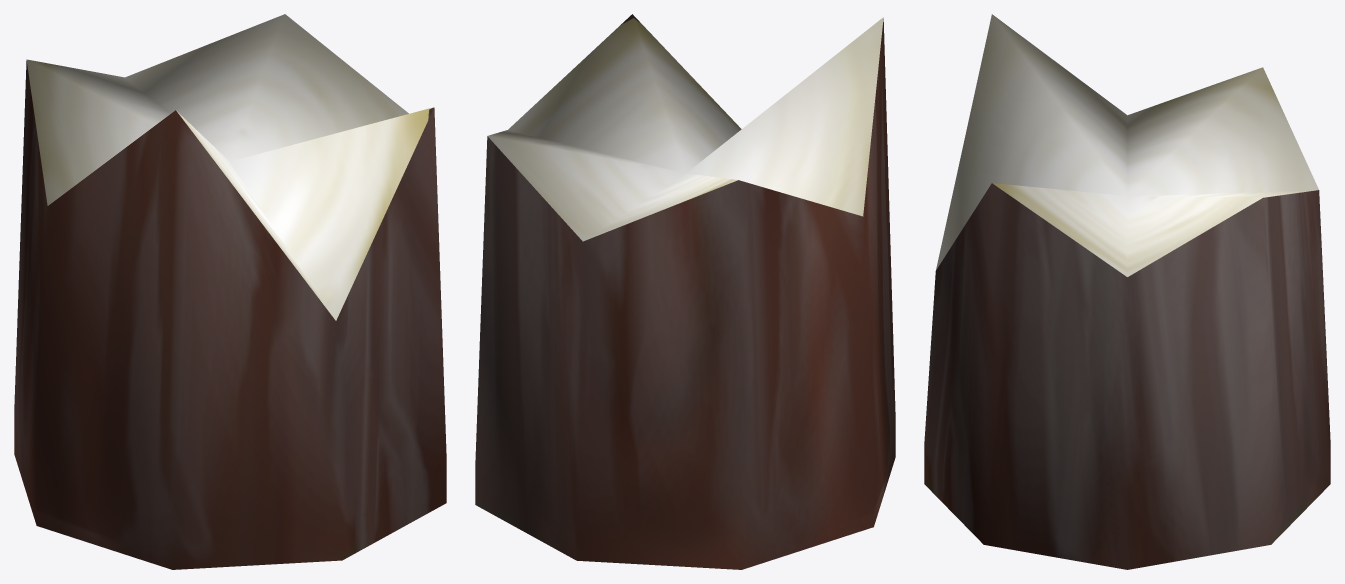
The model's file is Stump.fbx.
3 views of the same model, side by side, from view 1: azimuth 30°, elevation 25°; view 2: azimuth 150°, elevation 25°; view 3: azimuth 270°, elevation 25° (orthographic). The views are drawn at different scales.
Visible parts, largest first — view 1: Cylinder.015; view 2: Cylinder.015; view 3: Cylinder.015.
Boxes of the visible parts, left/top/right/bottom form: Cylinder.015: left=14, top=14, right=446, bottom=569; Cylinder.015: left=475, top=14, right=895, bottom=569; Cylinder.015: left=924, top=14, right=1330, bottom=569.
Size of the model in its own units: 82.27 by 92.19 by 82.27.
